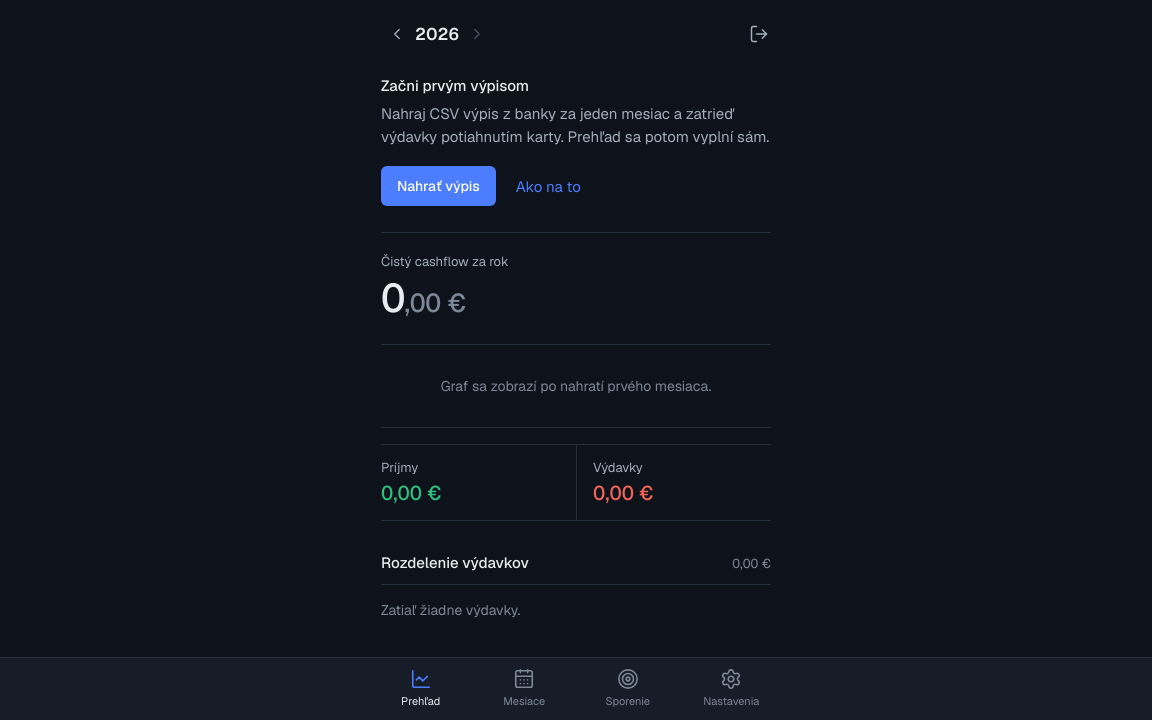
Scenario: keď sa zmazanie nepodarí, ukáže chybu a ostane prihlásený
This screenshot has width=1152, height=720.
Expected: the text "Čistý cashflow za rok" is shown, [381,253,509,270]
Click the button "Nastavenia" at (731, 689), box [680,658,783,719]
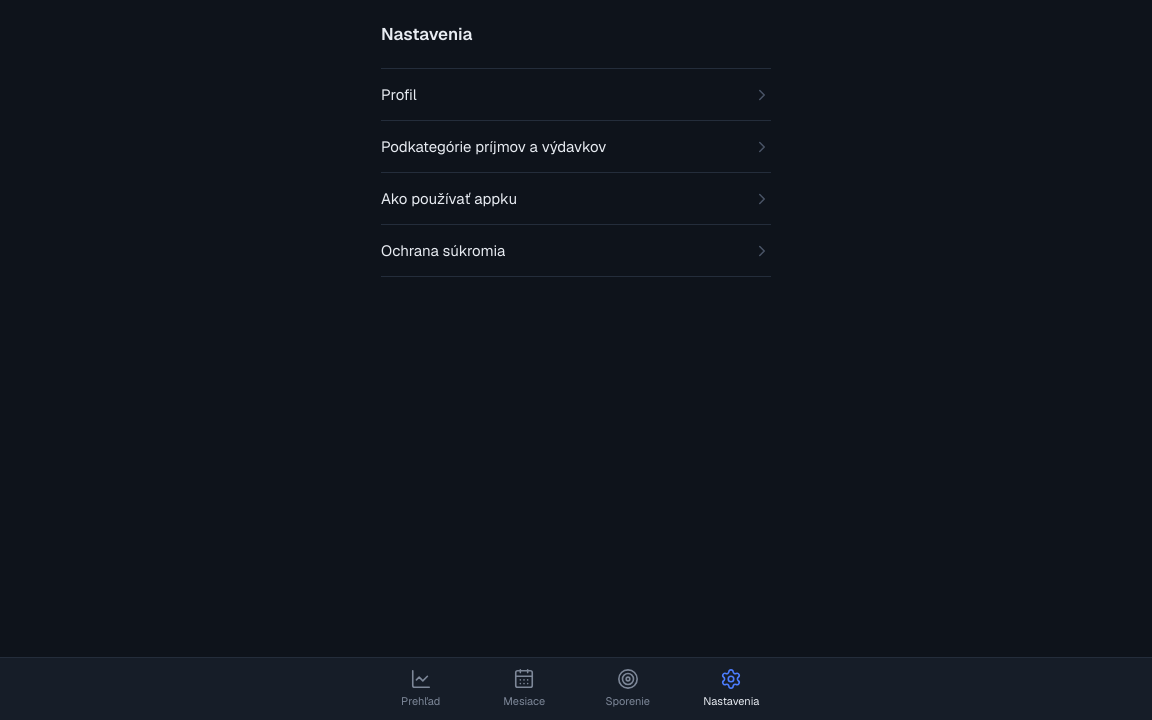
Click the button "Profil" at (399, 94), box [381,69,771,121]
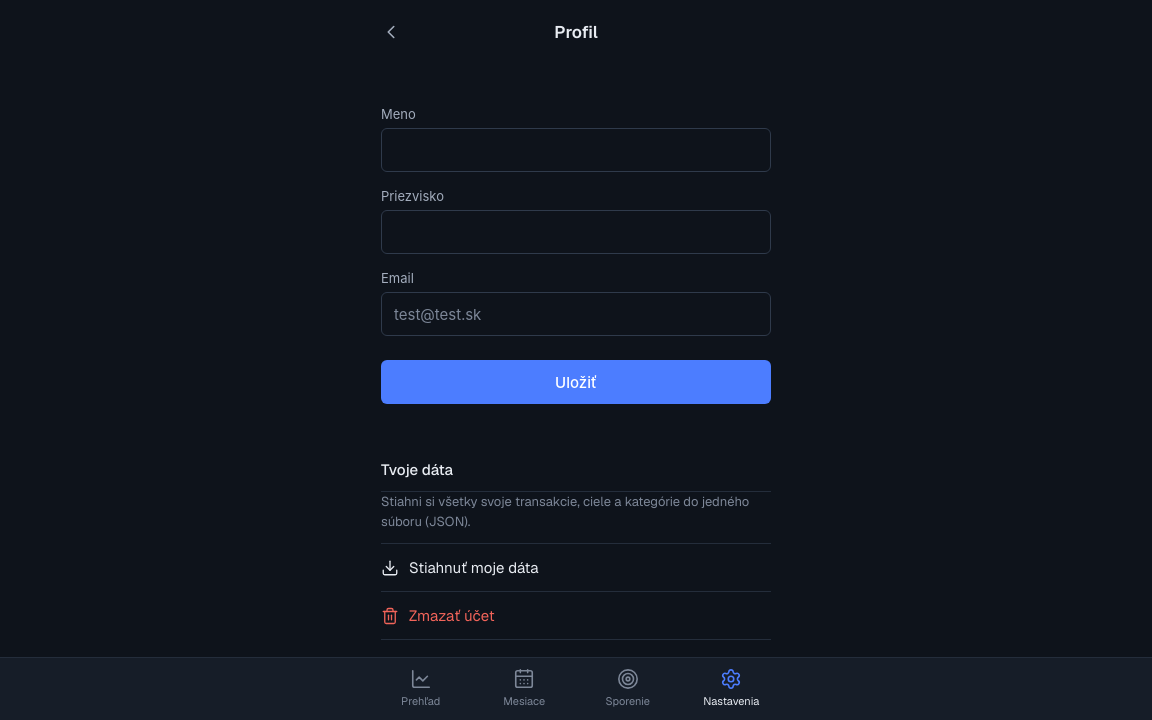
Click the button "Zmazať účet" at (452, 616), box [381,592,771,640]
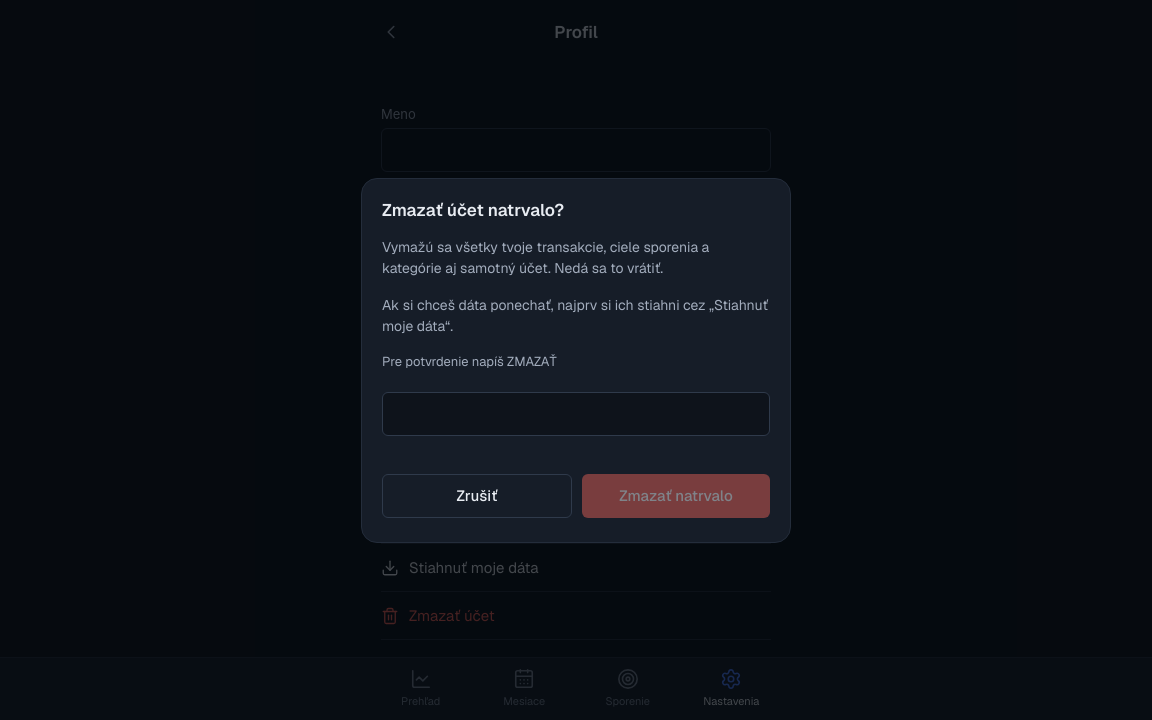
Type "ZMAZAŤ" into the field labelled "Pre potvrdenie napíš ZMAZAŤ" at (576, 414), box [382,392,770,436]
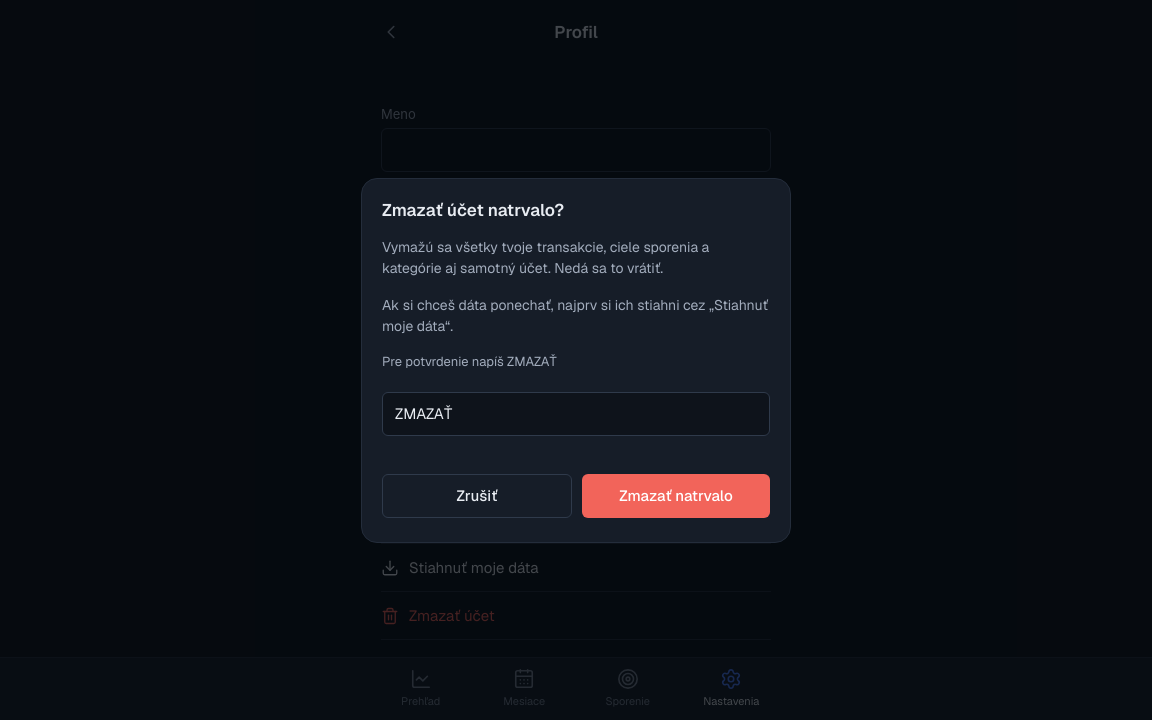
Click the button "Zmazať natrvalo" at (676, 496), box [582,474,770,518]
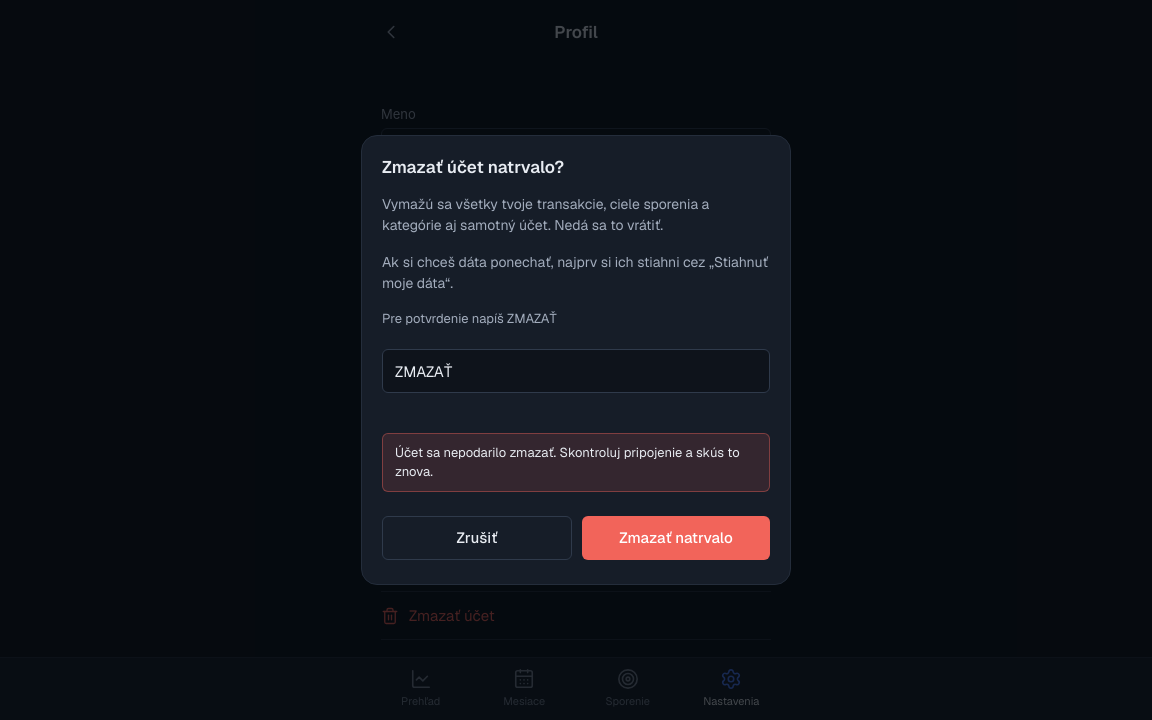
Expected: the button "Zmazať natrvalo" is enabled, [582,516,770,560]
Expected: the text "Účet sa nepodarilo zmazať" is shown, [395,444,740,480]
